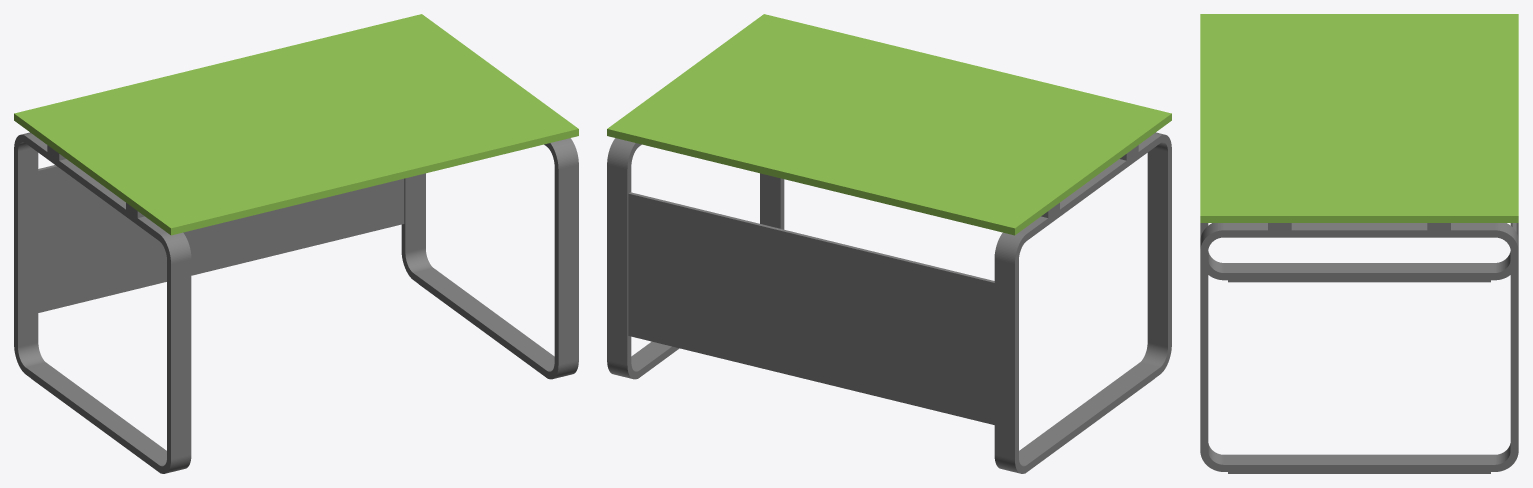
Rendered from legDesk120.fbx.
3 views of the same model, side by side, from view 1: azimuth 30°, elevation 25°; view 2: azimuth 150°, elevation 25°; view 3: azimuth 270°, elevation 25° (orthographic).
Parts seen in each view (by area): view 1: legDesk120; view 2: legDesk120; view 3: legDesk120.
Part boxes in pixels (box(x1,y1,x2,y2)): legDesk120: box(14, 14, 578, 473); legDesk120: box(607, 14, 1171, 473); legDesk120: box(1200, 14, 1518, 473).
Bounding box in the file's own units: 120 × 72 × 80.
